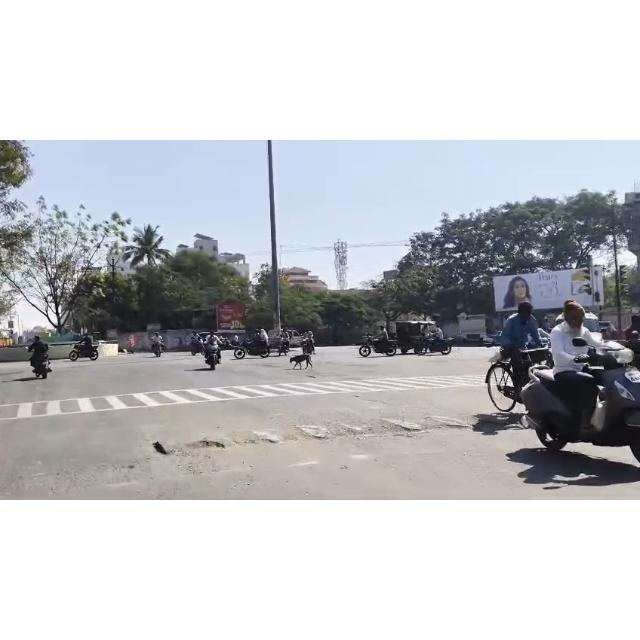auto: (396, 317, 450, 355)
